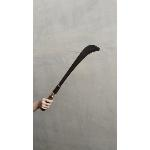Golok: (42, 42, 102, 108)
